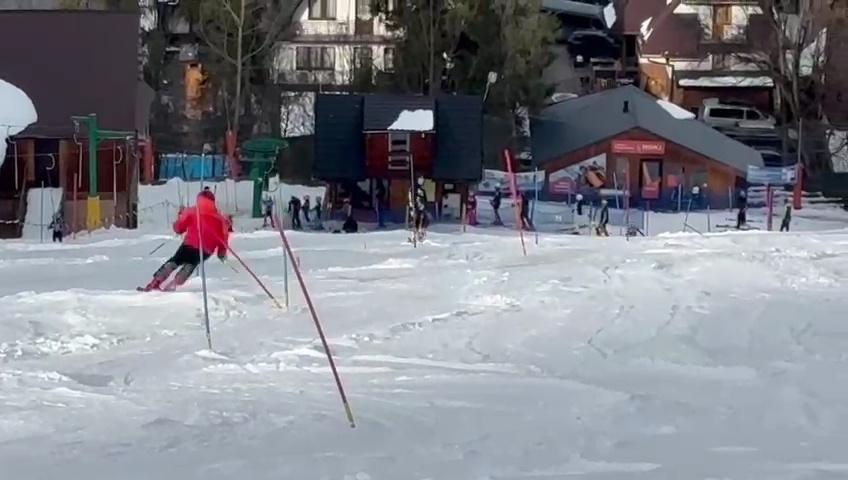gate: (263, 204, 381, 438), (190, 201, 221, 349), (504, 154, 527, 267), (530, 165, 546, 245), (407, 157, 419, 250)
